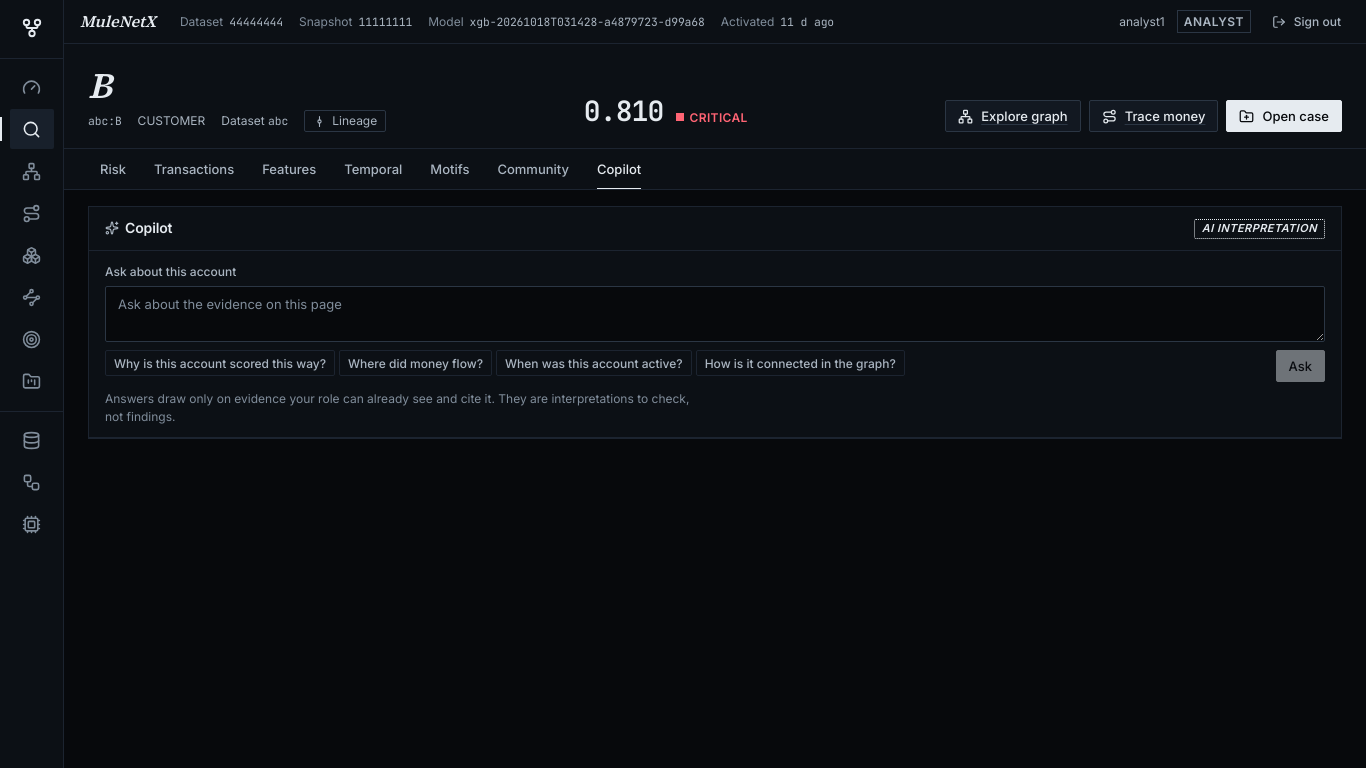
Test case: copilot panel (T41) › shows a clear unavailable state while the rest of the workspace keeps working
Type "Summarise this account" into the text box at (715, 314), box [105, 286, 1325, 342]
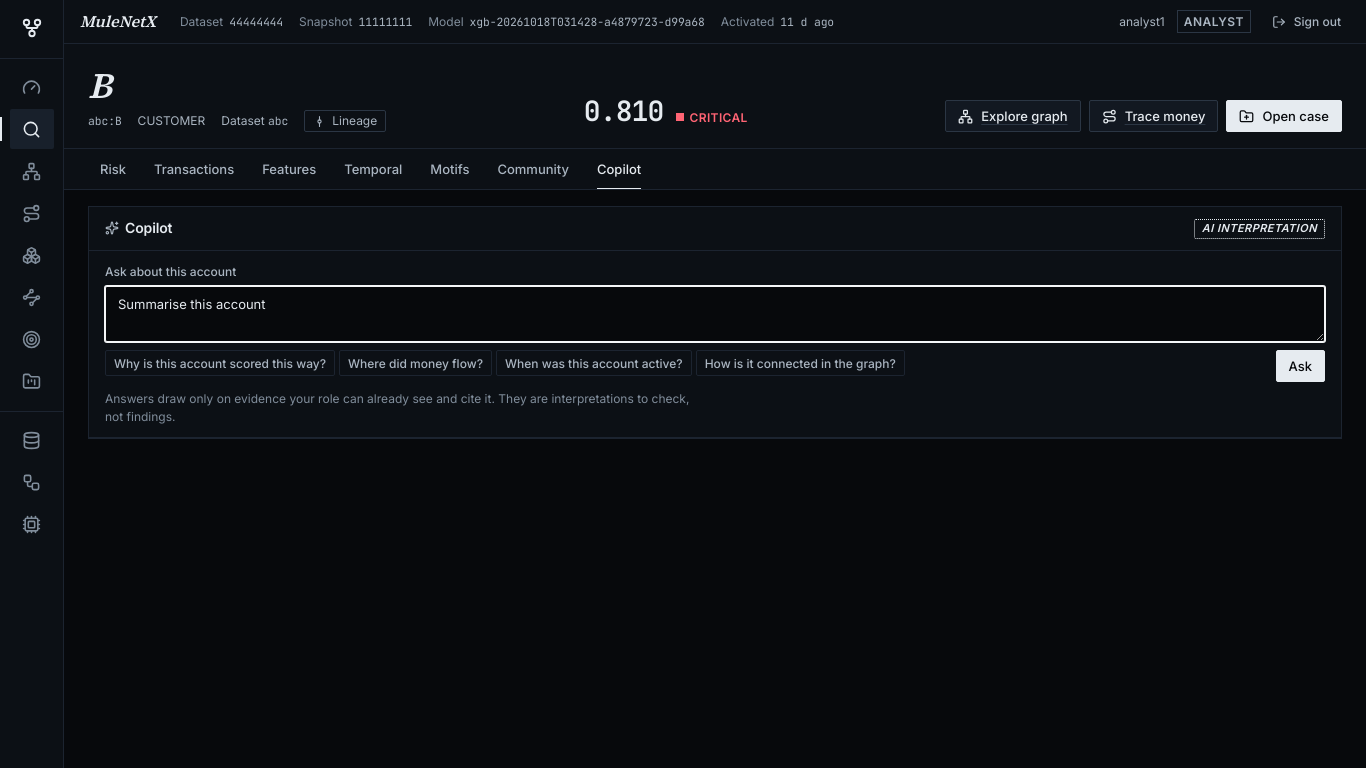
Click the button "Ask" at (1300, 366), box [1276, 350, 1325, 382]
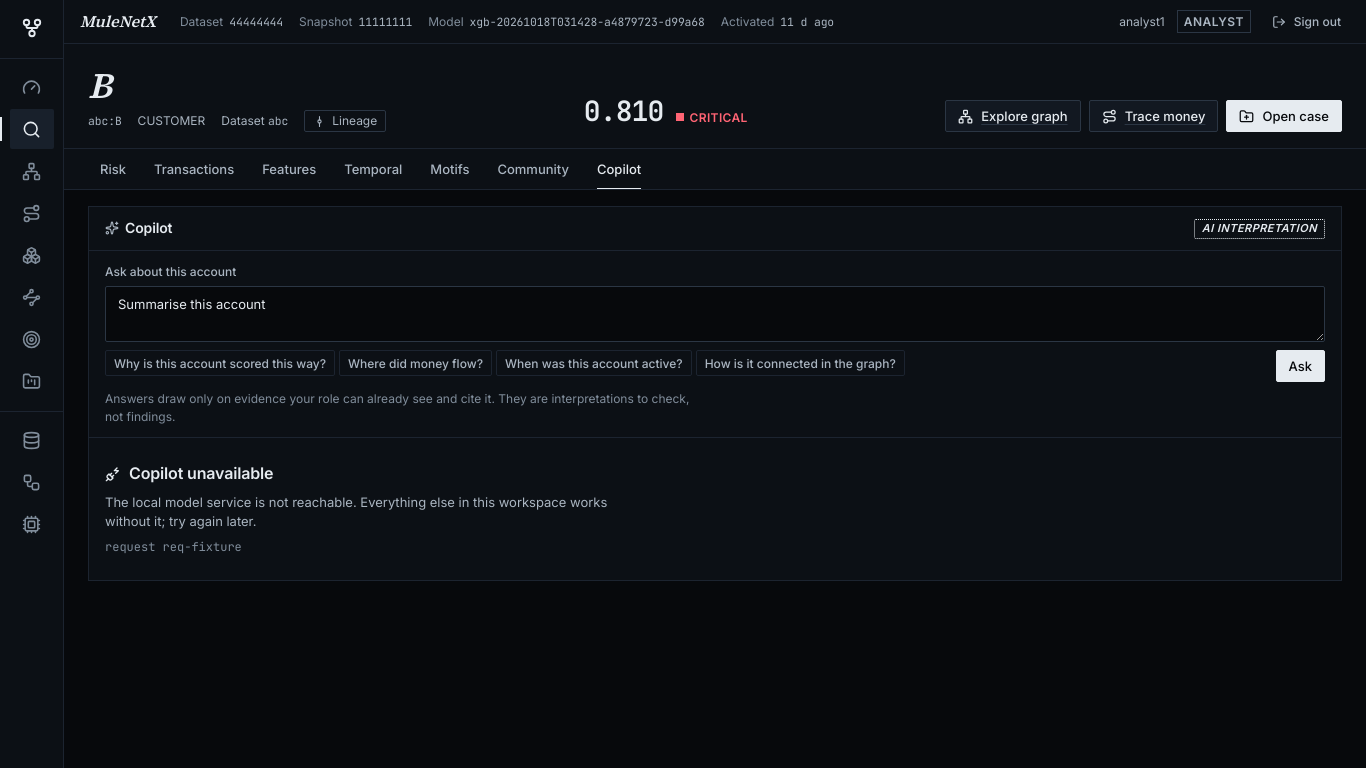
Expected: the heading "Copilot unavailable" is shown, [105, 463, 273, 483]
Expected: the text "Everything else in this workspace works without it" is shown, [105, 494, 607, 529]
Click the tab "Risk" at (113, 169), box [88, 149, 138, 189]
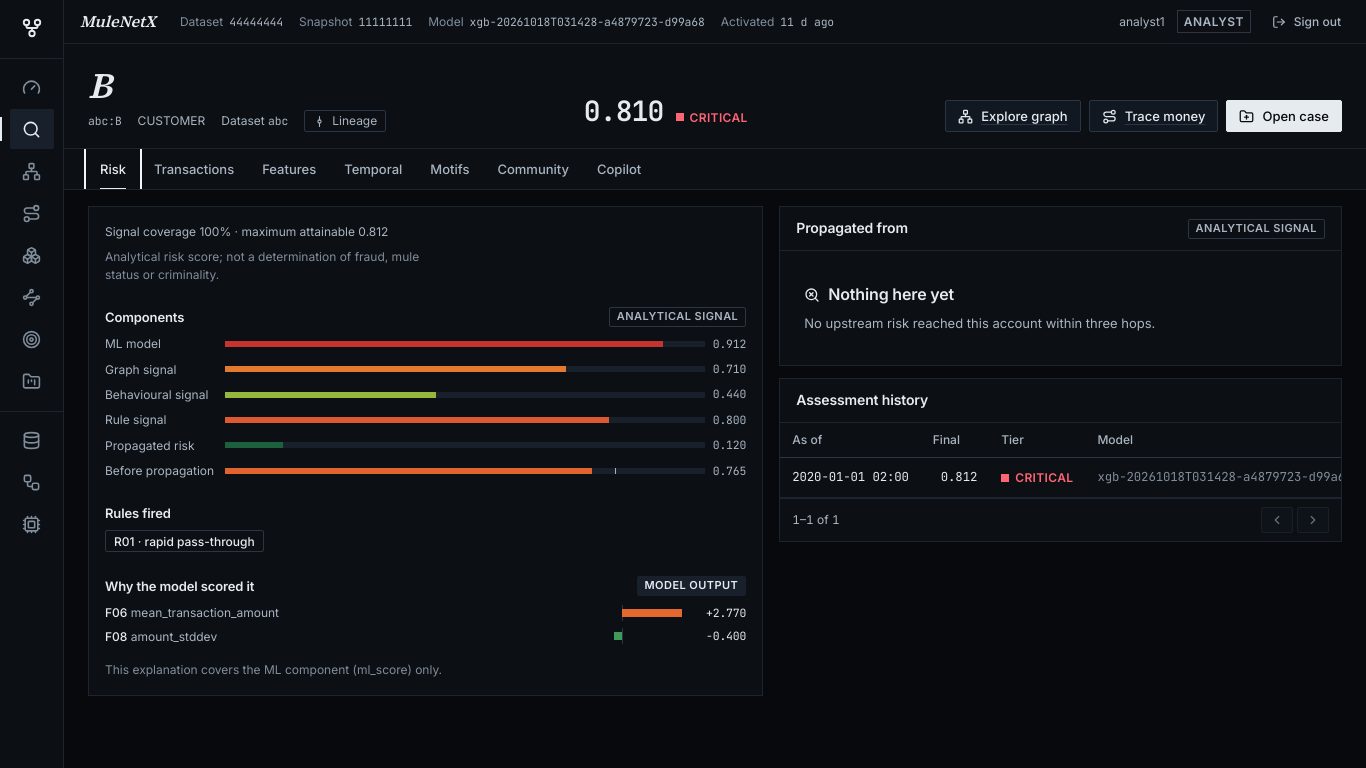
Expected: the text "Signal coverage 100% · maximum attainable 0.812" is shown, [105, 224, 388, 239]
